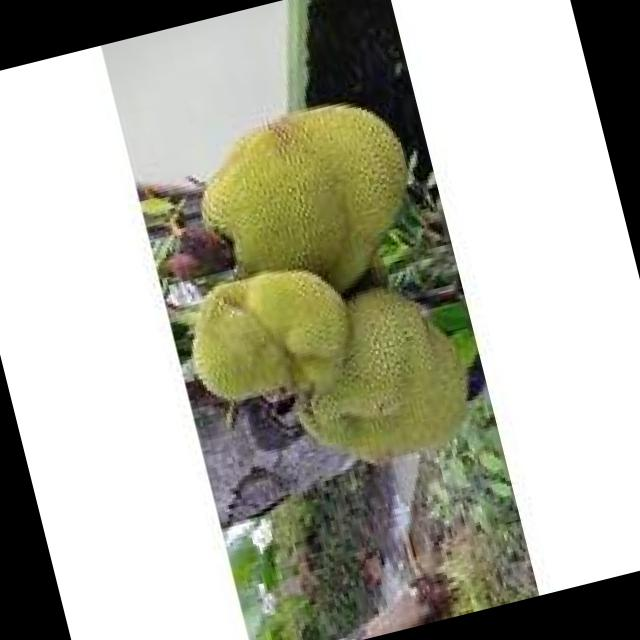Fruit: (180, 208, 500, 517), (167, 73, 446, 333)
